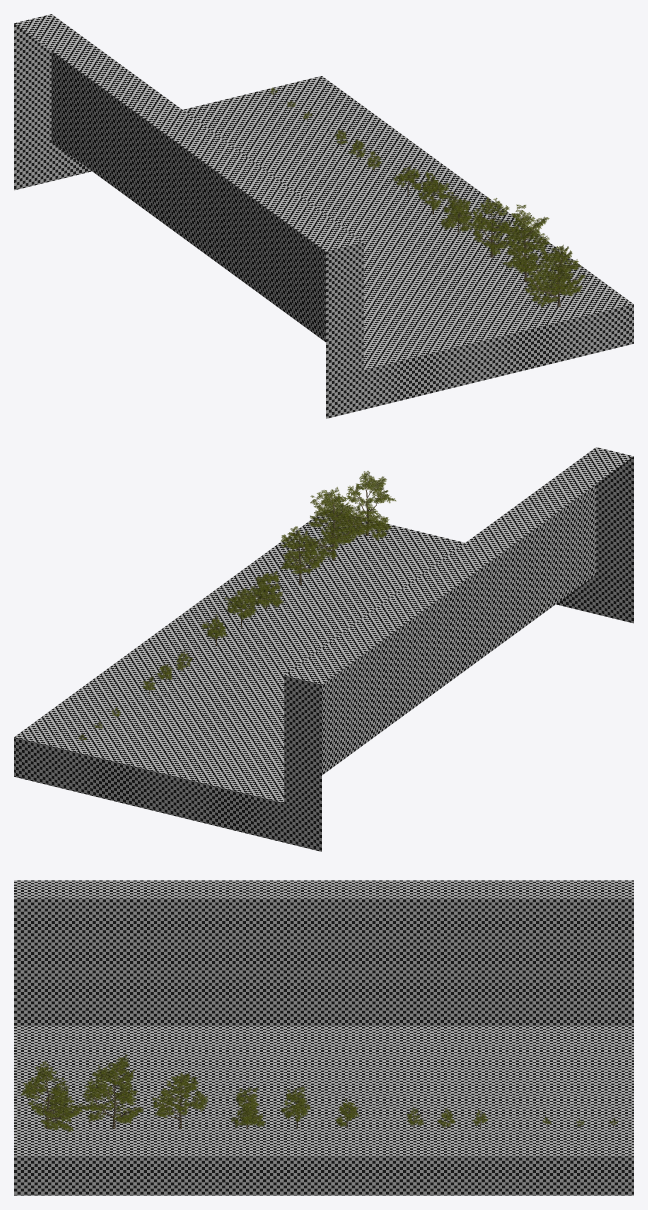
3 views of the same model, one above another, from view 1: azimuth 30°, elevation 25°; view 2: azimuth 150°, elevation 25°; view 3: azimuth 270°, elevation 25° (orthographic).
Visible parts, largest first — view 1: Ground, Acer_large_2_LOD0, Acer_large_1_LOD0, Acer_large_3_LOD0, Acer_medium_1_LOD0, Acer_medium_2_LOD0; view 2: Ground, Acer_large_2_LOD0, Acer_large_1_LOD0, Acer_large_3_LOD0, Acer_medium_1_LOD0, Acer_medium_2_LOD0; view 3: Ground, Acer_large_2_LOD0, Acer_large_1_LOD0, Acer_large_3_LOD0, Acer_medium_1_LOD0, Acer_medium_2_LOD0.
Boxes of the visible parts, x1,y1,x2,y2 form: Ground: (14,14,633,418); Acer_large_2_LOD0: (502,204,551,282); Acer_large_1_LOD0: (524,244,585,307); Acer_large_3_LOD0: (468,197,515,257); Acer_medium_1_LOD0: (440,192,474,232); Acer_medium_2_LOD0: (418,171,448,214); Ground: (14,447,633,851); Acer_large_2_LOD0: (302,487,366,560); Acer_large_1_LOD0: (335,471,395,540); Acer_large_3_LOD0: (281,526,326,584); Acer_medium_1_LOD0: (246,571,283,609); Acer_medium_2_LOD0: (225,588,256,627); Ground: (14,880,633,1195); Acer_large_2_LOD0: (81,1054,143,1128); Acer_large_1_LOD0: (21,1061,83,1131); Acer_large_3_LOD0: (152,1073,207,1128); Acer_medium_1_LOD0: (231,1087,265,1128); Acer_medium_2_LOD0: (280,1086,310,1128).
Size of what is drawn, in the model's own units: 106 by 55 by 186.
3 materials, 3 textured.
